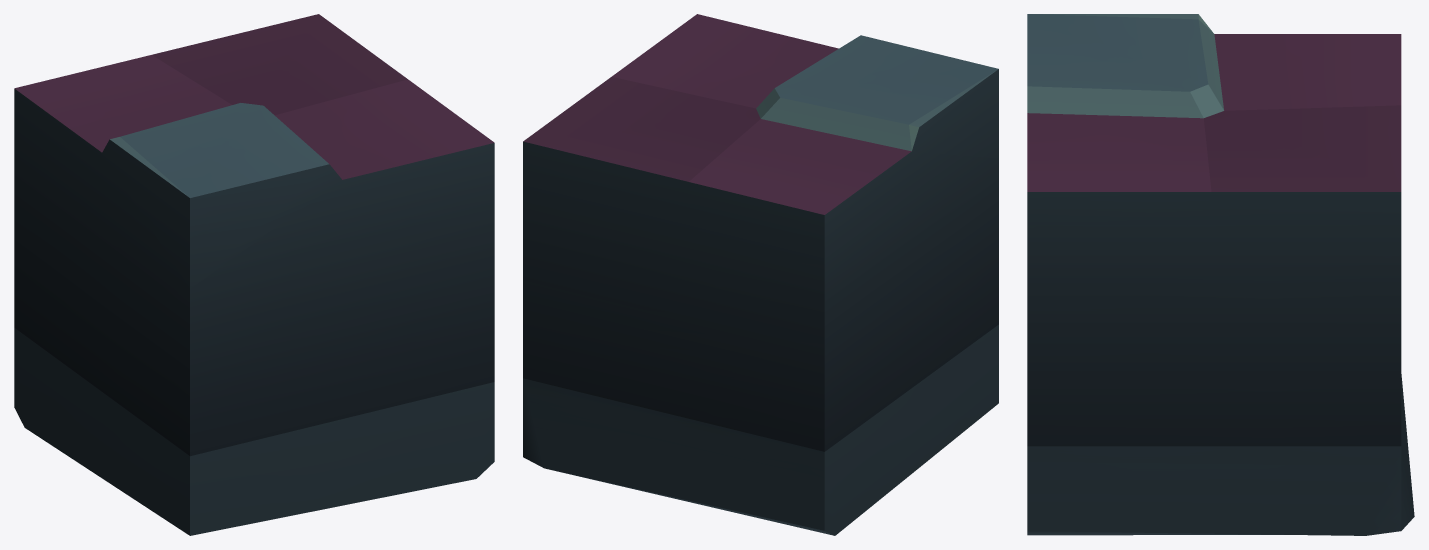
File: wall_small_corner_concave.fbx
The picture shows the model from 3 angles, left to right: view 1: azimuth 30°, elevation 25°; view 2: azimuth 150°, elevation 25°; view 3: azimuth 270°, elevation 25°; orthographic projection. The views are drawn at different scales.
Parts seen in each view (by area): view 1: wall_small_corner_concave; view 2: wall_small_corner_concave; view 3: wall_small_corner_concave.
Boxes of the visible parts, left/top/right/bottom form: wall_small_corner_concave: left=14, top=14, right=494, bottom=535; wall_small_corner_concave: left=523, top=14, right=998, bottom=535; wall_small_corner_concave: left=1027, top=14, right=1414, bottom=535.
Bounding box in the file's own units: 103 × 110 × 104.
